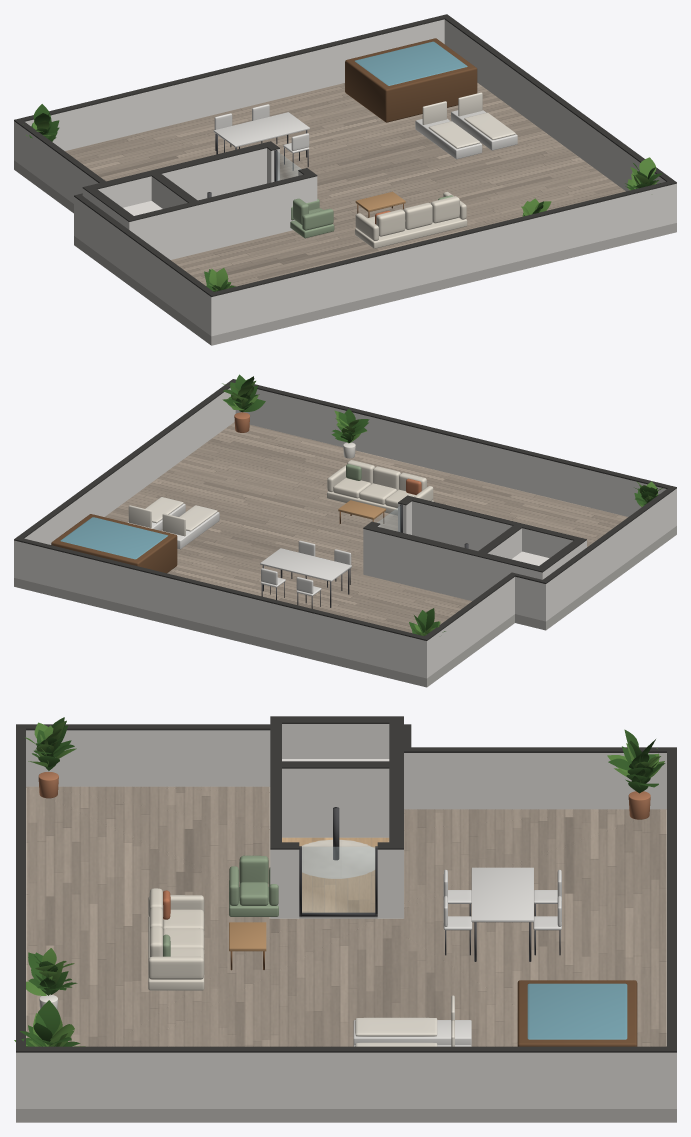
3 views of the same model, one above another, from view 1: azimuth 30°, elevation 25°; view 2: azimuth 150°, elevation 25°; view 3: azimuth 270°, elevation 25° (orthographic). The views are drawn at different scales.
Parts seen in each view (by area): view 1: par, floor, walls, parcap, Cube.004, caps, Cube.005, Cube.012, Cube.021, Cube.006, Cube.009, Cube.007 (+6 smaller); view 2: par, floor, walls, parcap, caps, Cube.005, Cube.004, Cube.012, Cube.037, Cube.007, Cube.026, Cube.010 (+3 smaller); view 3: floor, par, walls, parcap, Cube.005, caps, Cube, Cube.004, Cube.012, Cube.007, Cube.006, Cube.022 (+7 smaller).
Part boxes in pixels (box(x1,y1,x2,y2)): par: box(14, 19, 676, 336); floor: box(14, 83, 676, 345); walls: box(82, 148, 317, 259); parcap: box(14, 14, 676, 296); Cube.004: box(345, 38, 477, 122); caps: box(82, 141, 317, 221); Cube.005: box(355, 41, 467, 85); Cube.012: box(213, 112, 309, 147); Cube.021: box(355, 217, 467, 248); Cube.006: box(415, 118, 482, 159); Cube.009: box(451, 110, 517, 150); Cube.007: box(428, 121, 480, 148); par: box(14, 388, 676, 678); floor: box(14, 422, 676, 687); walls: box(363, 501, 586, 600); parcap: box(14, 379, 676, 640); caps: box(363, 495, 586, 572); Cube.005: box(60, 517, 167, 559); Cube.004: box(51, 514, 177, 573); Cube.012: box(260, 548, 351, 581); Cube.037: box(338, 500, 385, 519); Cube.007: box(179, 505, 217, 531); Cube.026: box(359, 483, 396, 504); Cube.010: box(145, 497, 183, 523); floor: box(16, 786, 676, 1122); par: box(16, 730, 676, 1108); walls: box(270, 724, 403, 918); parcap: box(16, 724, 676, 1052); Cube.005: box(527, 983, 627, 1039); caps: box(270, 716, 403, 849); Cube: box(302, 847, 375, 913); Cube.004: box(517, 980, 637, 1046); Cube.012: box(471, 867, 533, 922); Cube.007: box(355, 1017, 437, 1036); Cube.006: box(353, 1020, 471, 1045); Cube.022: box(148, 956, 204, 979).
Size of the model in its own units: 12.42 by 1.77 by 10.66.
Materials: 20 (1 with a texture image).
